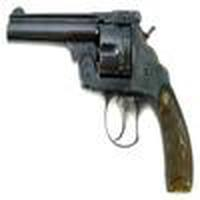gun: (3, 12, 199, 174)
